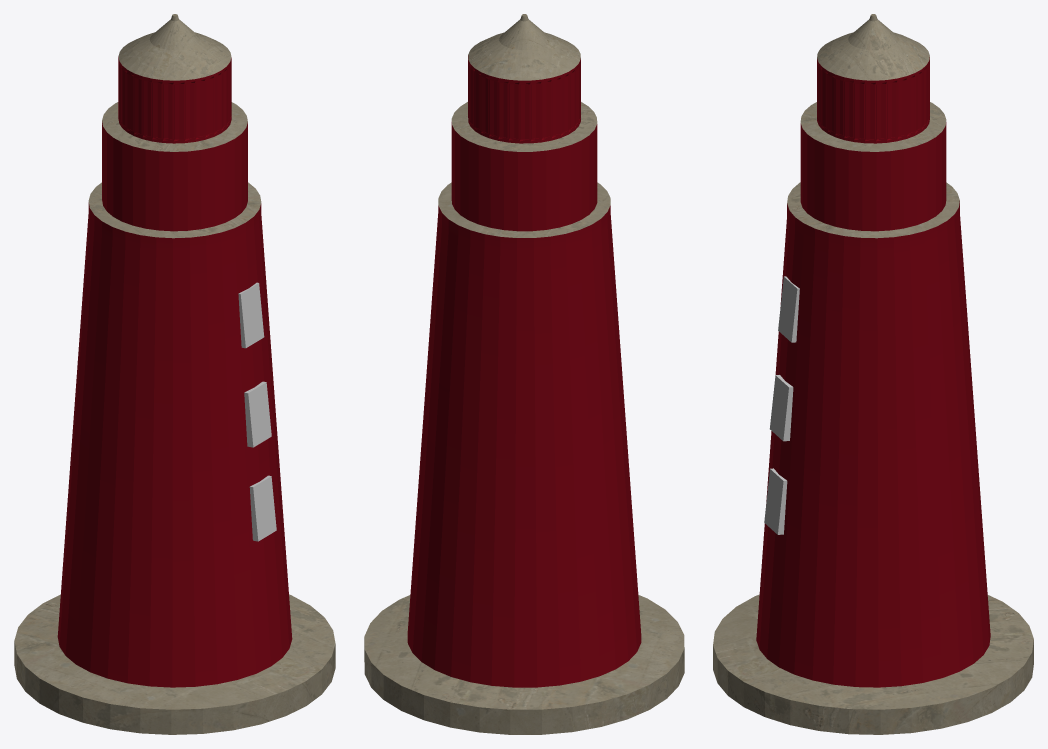
The model's file is Faro.fbx.
3 views of the same model, side by side, from view 1: azimuth 30°, elevation 25°; view 2: azimuth 150°, elevation 25°; view 3: azimuth 270°, elevation 25° (orthographic).
Parts seen in each view (by area): view 1: Cylinder.001; view 2: Cylinder.001; view 3: Cylinder.001.
Boxes of the visible parts, left/top/right/bottom form: Cylinder.001: left=14, top=14, right=335, bottom=734; Cylinder.001: left=364, top=14, right=684, bottom=734; Cylinder.001: left=713, top=14, right=1033, bottom=734.
Size of the model in its own units: 58.21 by 131 by 58.21.
